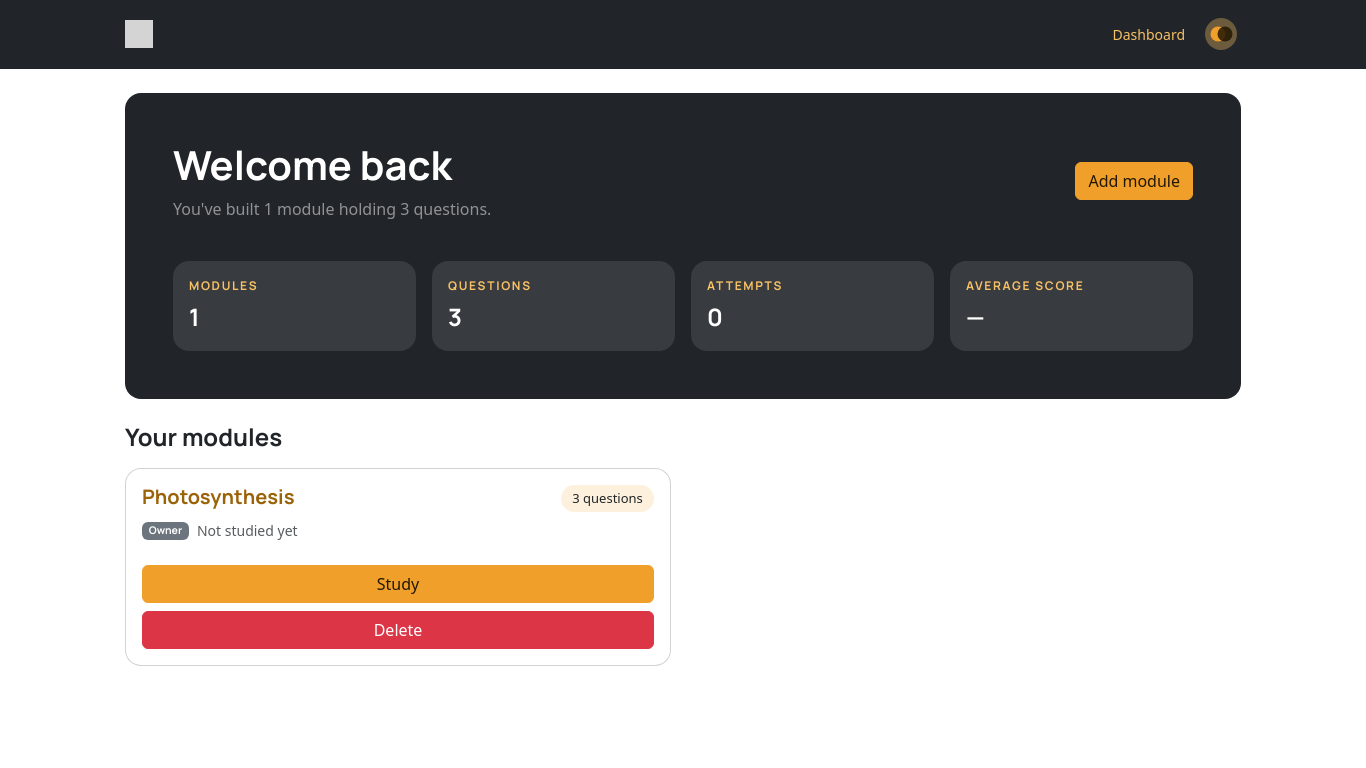
Test: study mode selection › defaults the count to the module total and caps it there
Click the button with aria-label "Study Photosynthesis". click: point(398, 584)
box: [142, 565, 654, 603]
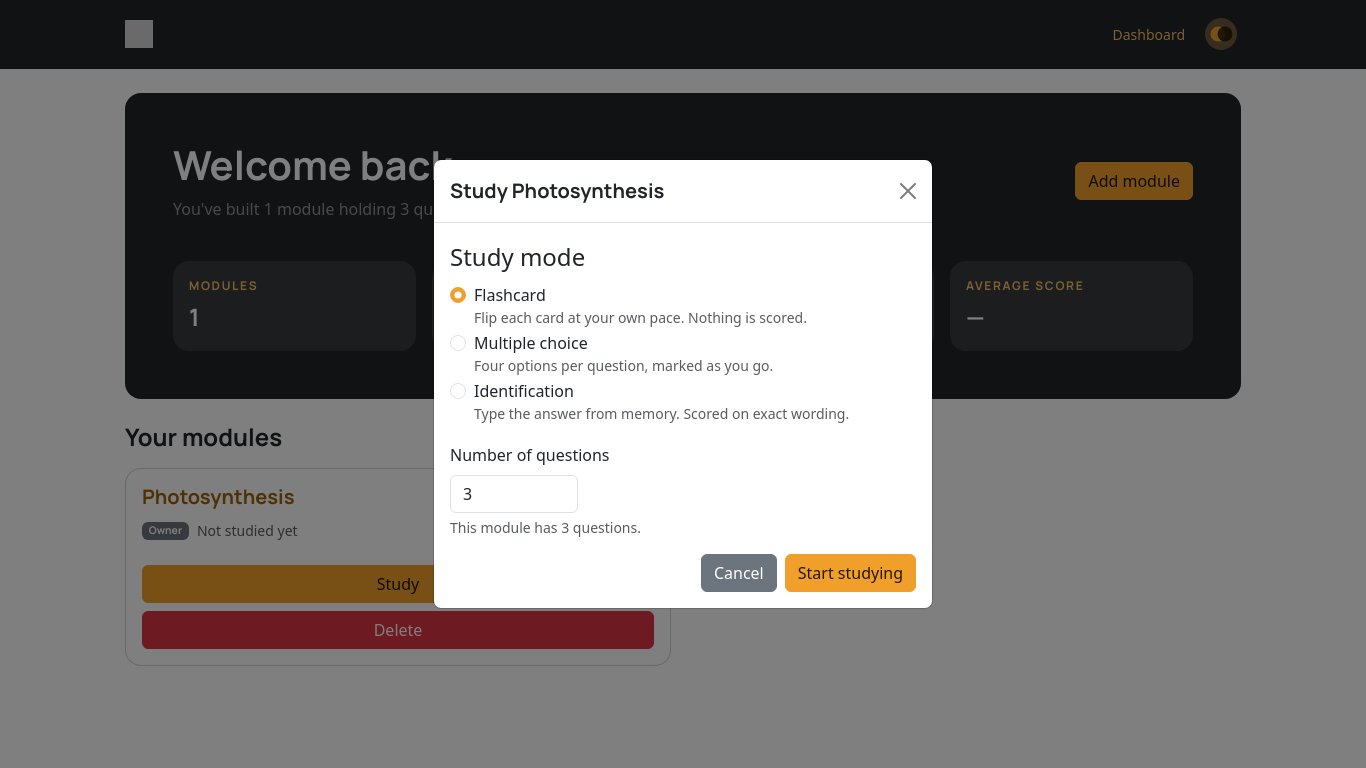
Expected: the number field labelled "Number of questions" holds "3"
Expected: the dialog "Study Photosynthesis" shows "This module has 3 questions.", [450, 518, 641, 537]
Replace the text in the number field labelled "Number of questions" with "99". click: point(514, 494)
box: [450, 475, 578, 513]
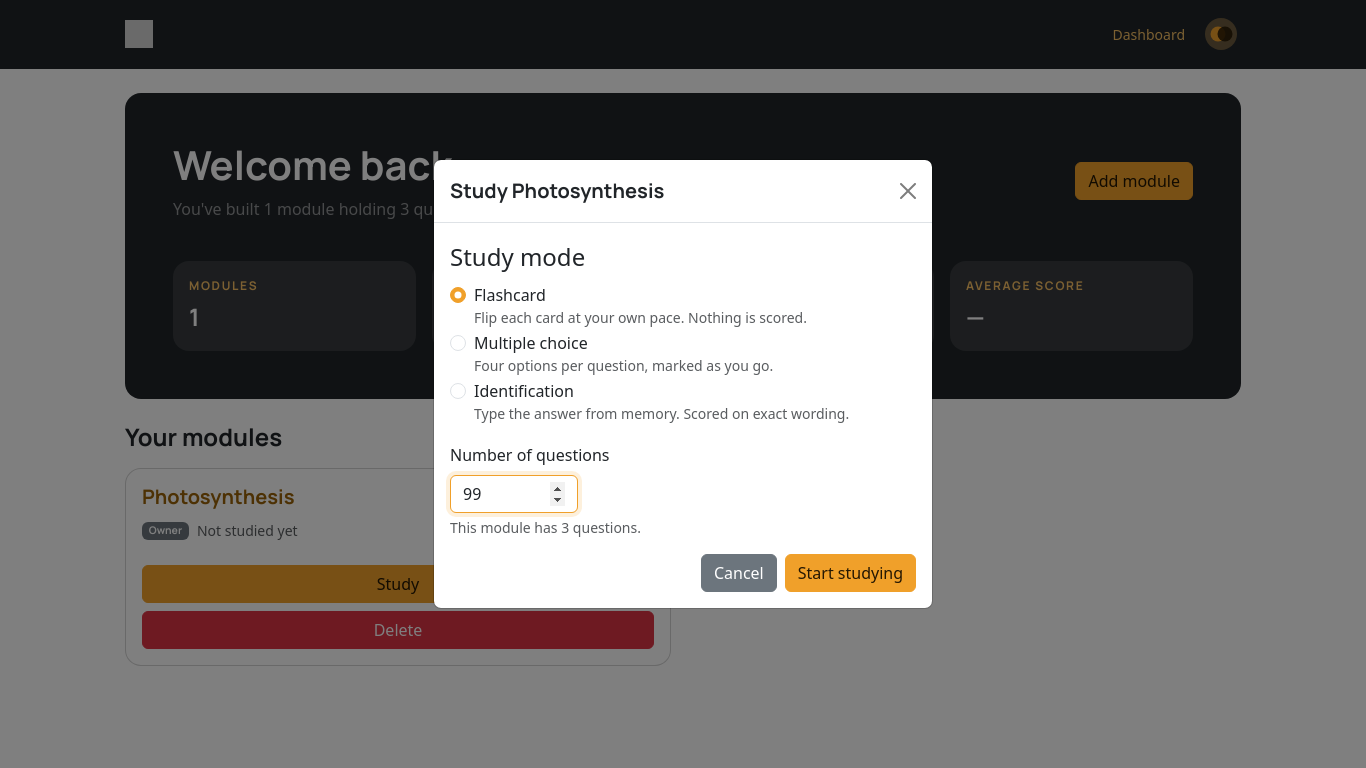
Press Tab
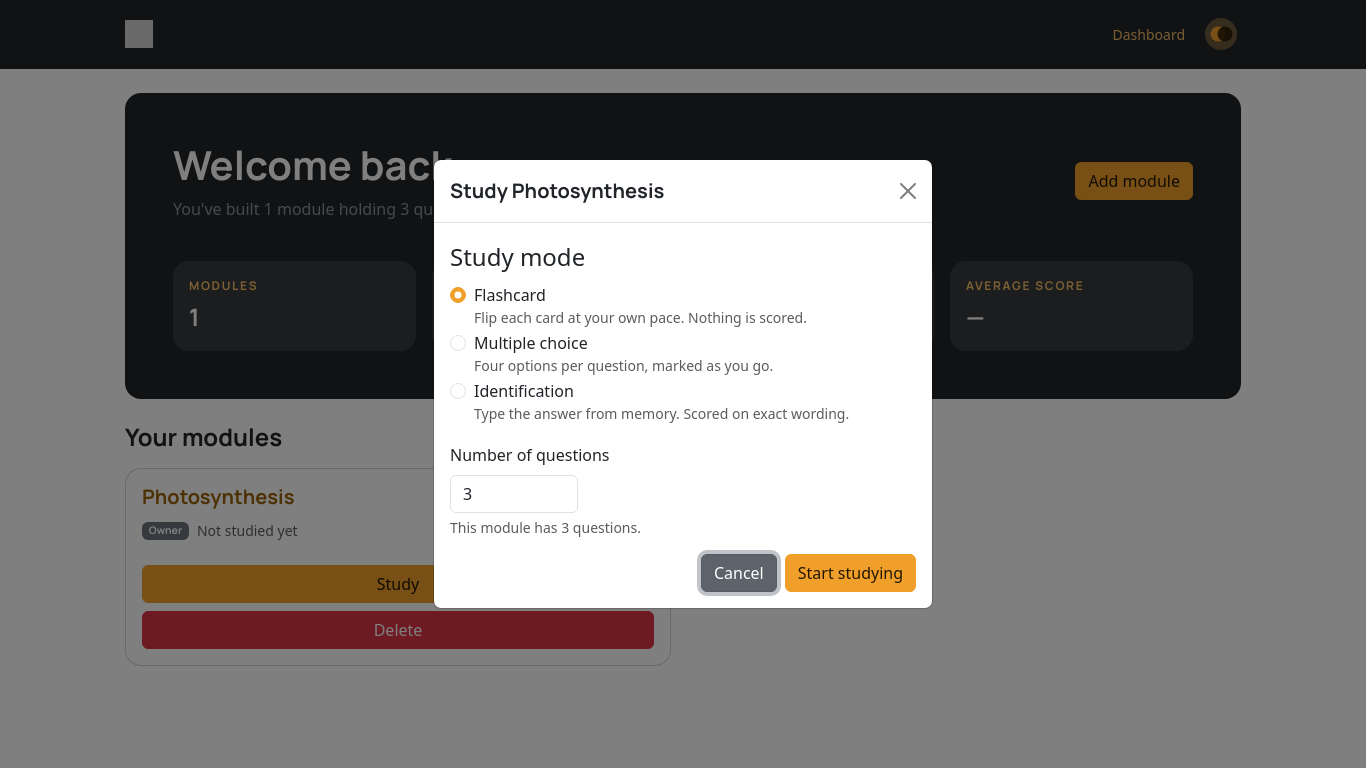
Expected: the number field labelled "Number of questions" holds "3", [450, 475, 578, 513]
